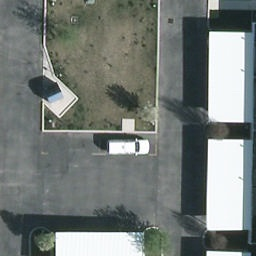car: (107, 140, 150, 151)
